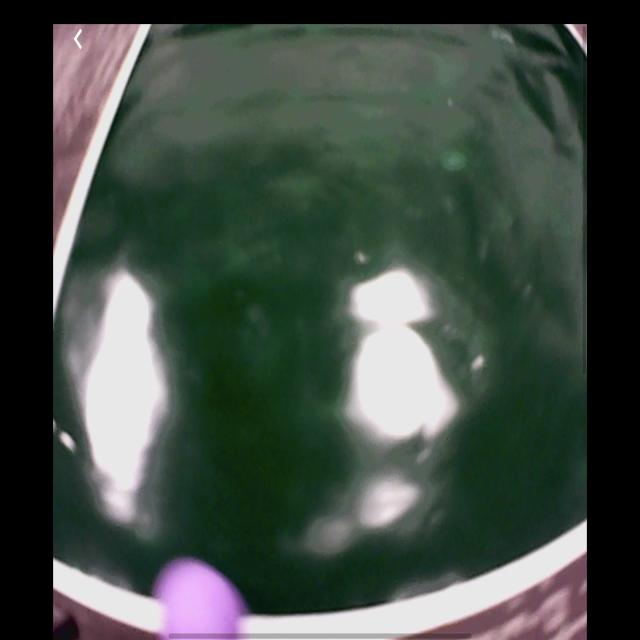ball: (151, 557, 250, 639)
